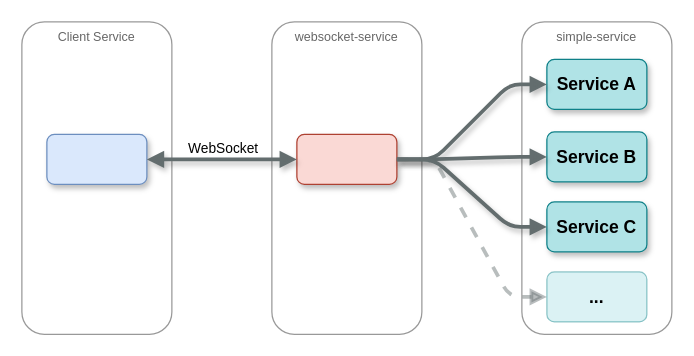
Image size: 694x356. Some labels were removed from this diagram. The centre of each missing label's shape, as x and y in pixels:
"Client" goes at point (97, 160).
"Multi Proxy" goes at point (347, 160).
